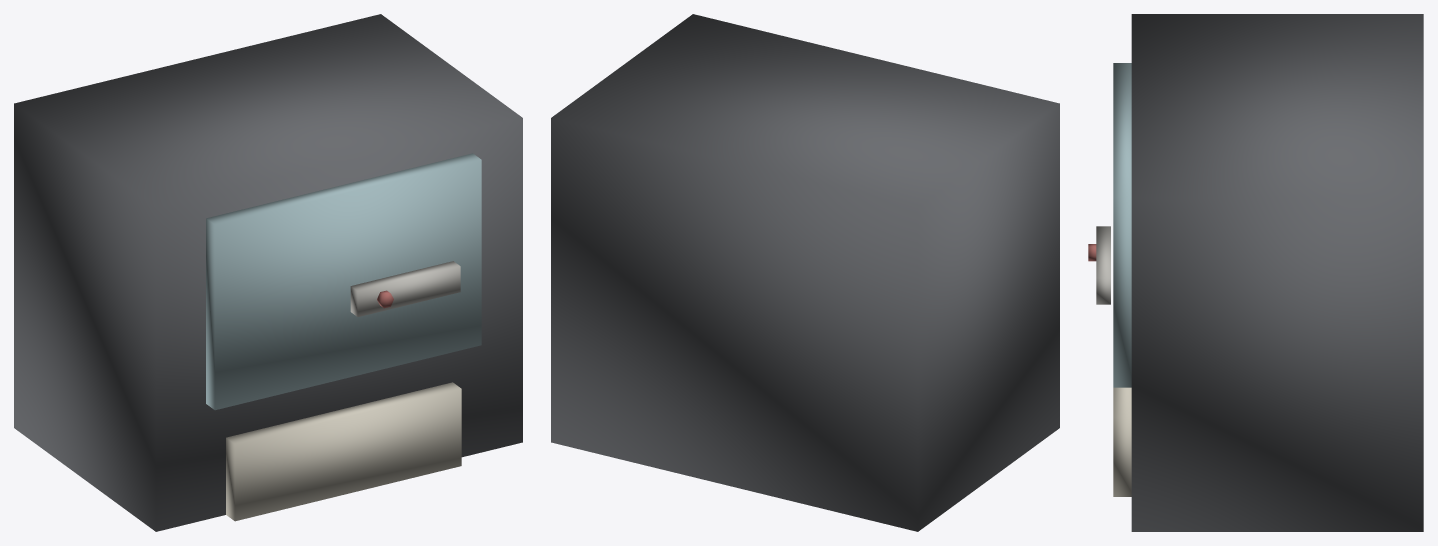
File: television__compact.glb
3 views of the same model, side by side, from view 1: azimuth 30°, elevation 25°; view 2: azimuth 150°, elevation 25°; view 3: azimuth 270°, elevation 25° (orthographic). The views are drawn at different scales.
Parts seen in each view (by area): view 1: world; view 2: world; view 3: world.
Part boxes in pixels (x1=…): world: x1=14, y1=14, x2=522, y2=531; world: x1=551, y1=14, x2=1059, y2=531; world: x1=1088, y1=14, x2=1423, y2=531.
Size of the model in its own units: 0.462 by 0.3906 by 0.3556.
